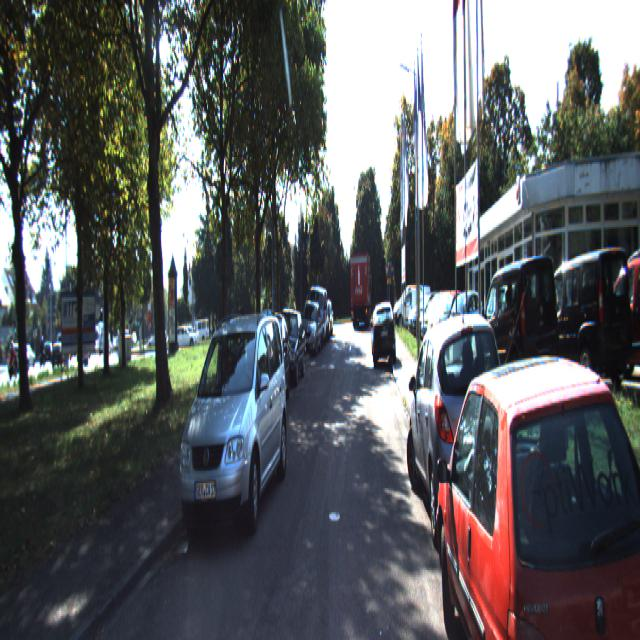Car: (433, 333, 639, 638), (409, 305, 522, 562), (172, 309, 290, 546), (532, 234, 636, 398), (472, 255, 563, 400), (588, 246, 640, 384), (247, 311, 293, 419), (269, 304, 308, 387), (442, 286, 486, 354), (349, 252, 373, 330), (372, 300, 398, 369), (636, 288, 640, 638), (299, 300, 323, 358)
